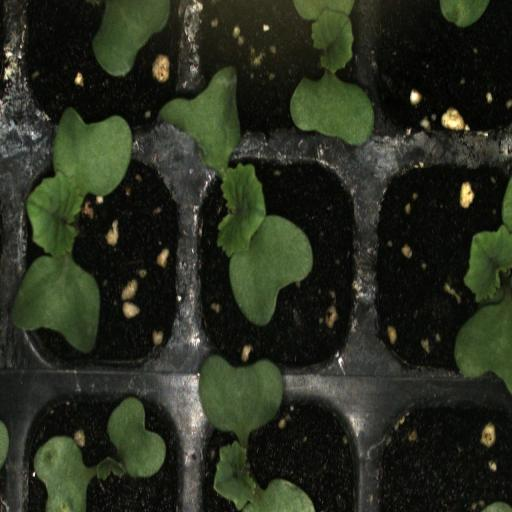Folha: (290, 0, 380, 147), (454, 183, 512, 392)
Germinacao: (10, 146, 190, 384), (190, 149, 366, 383), (191, 375, 367, 512), (14, 378, 190, 512)
